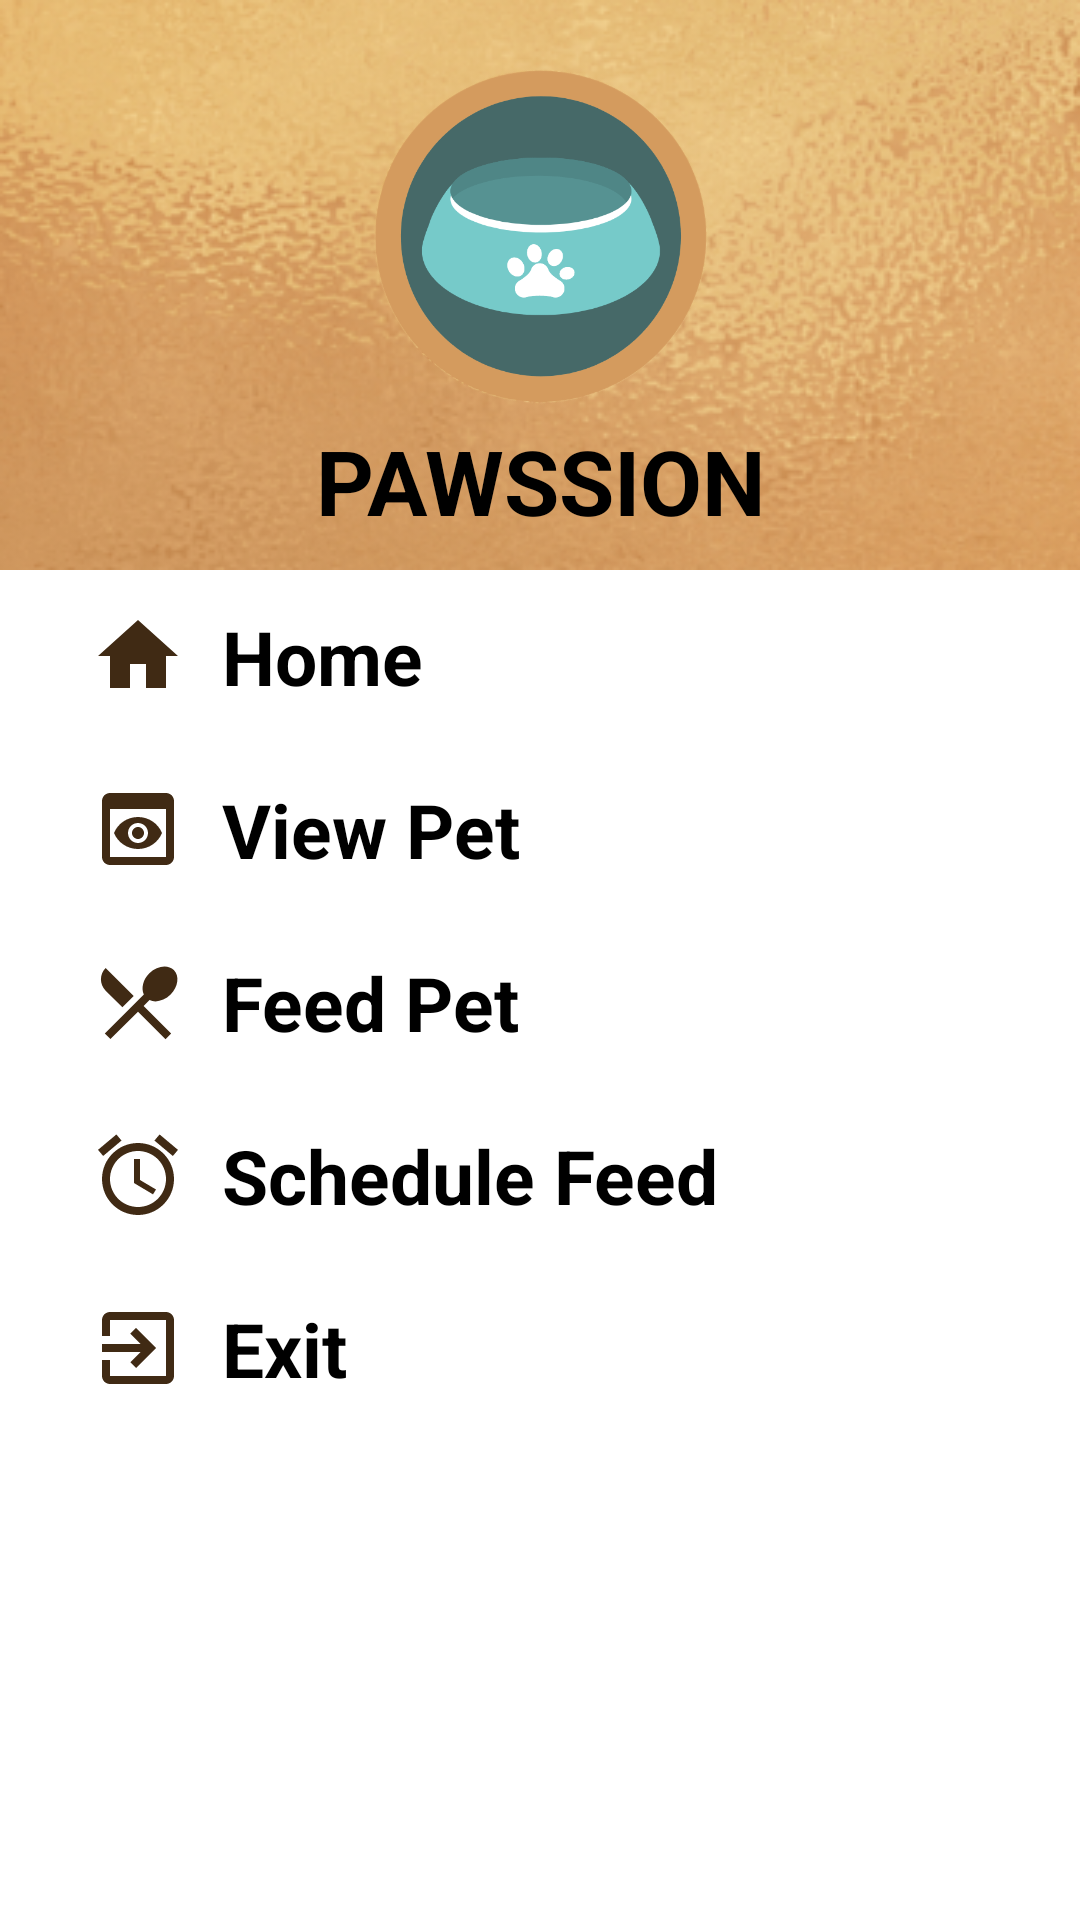

Named icons in this screenshot (1080 × 1920) and their bounding boxes, (x1, y1, x2, y2):
alarm: (98, 1134, 178, 1215)
dining: (101, 966, 178, 1039)
